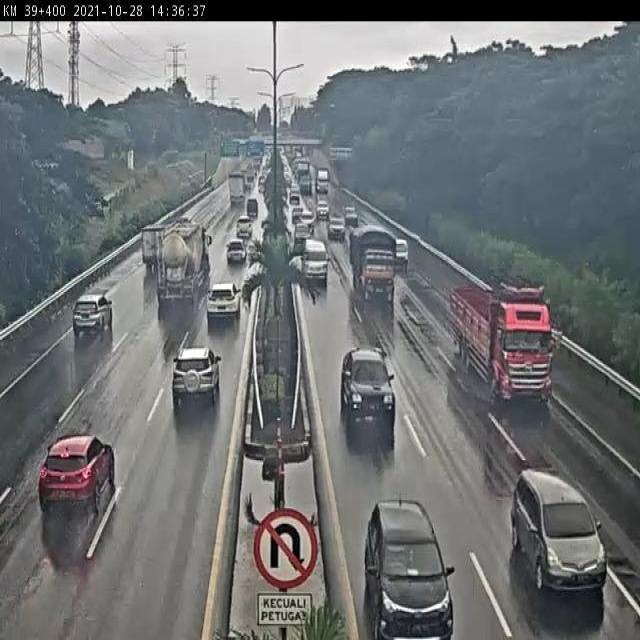truck-m-: (447, 276, 554, 404), (349, 220, 397, 297)
truck-xl-: (153, 220, 213, 303)
